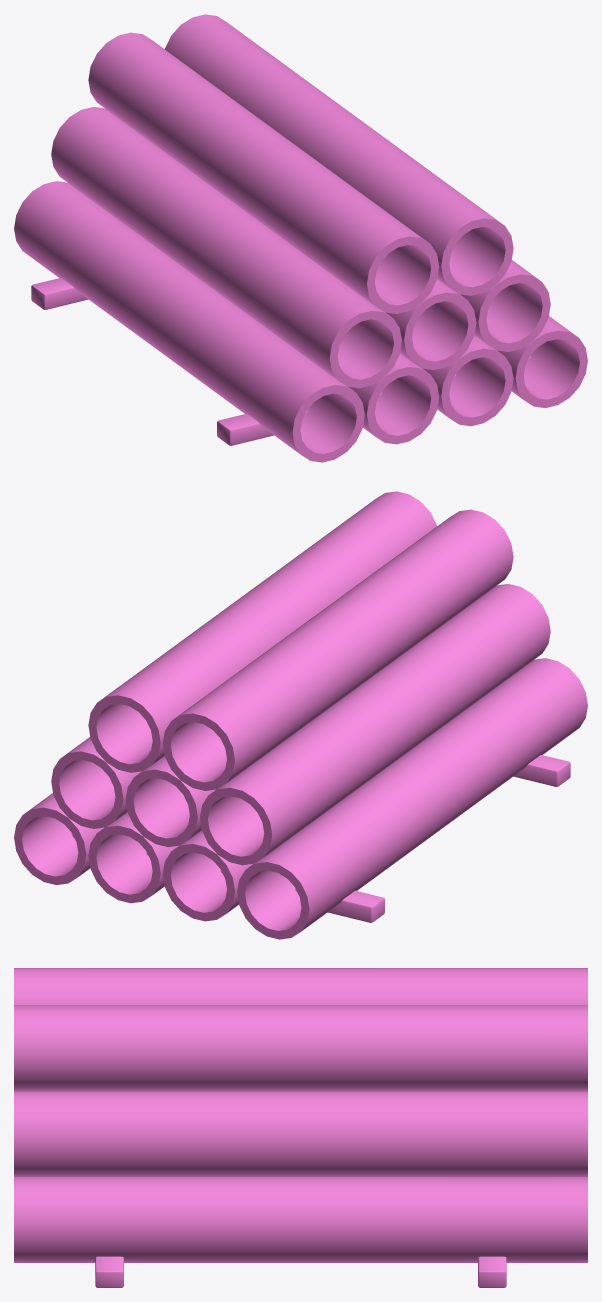
File: Site_Pipes.fbx
3 views of the same model, one above another, from view 1: azimuth 30°, elevation 25°; view 2: azimuth 150°, elevation 25°; view 3: azimuth 270°, elevation 25° (orthographic). The views are drawn at different scales.
Visible parts, largest first — view 1: Pipes; view 2: Pipes; view 3: Pipes.
Boxes of the visible parts, bbox=[...] form: Pipes: bbox=[14, 14, 587, 462]; Pipes: bbox=[14, 491, 587, 939]; Pipes: bbox=[14, 968, 587, 1287].
Bounding box in the file's own units: 8.5 × 4.89 × 12.
Materials: 1 (1 with a texture image).
